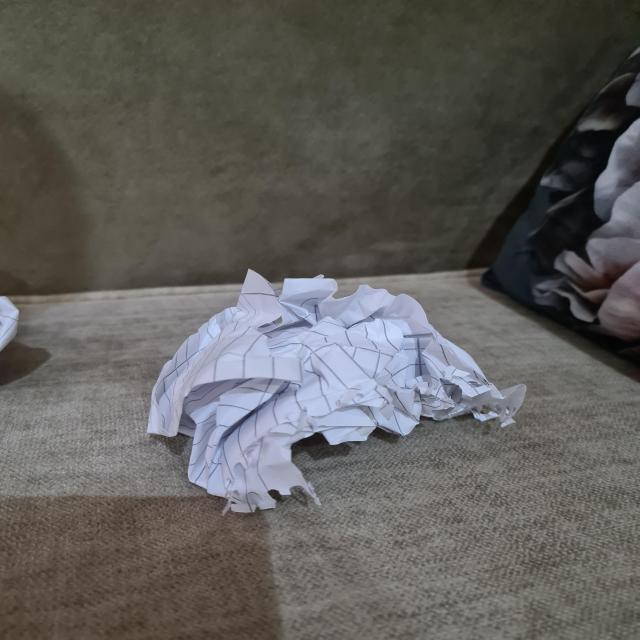kertas: (145, 276, 514, 502)
